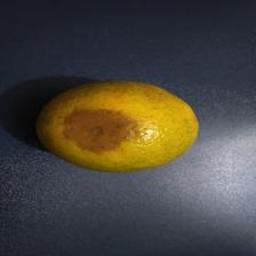Orange Semirotten: (32, 75, 187, 178)
